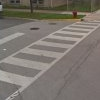crosswalk: (0, 22, 99, 100)
